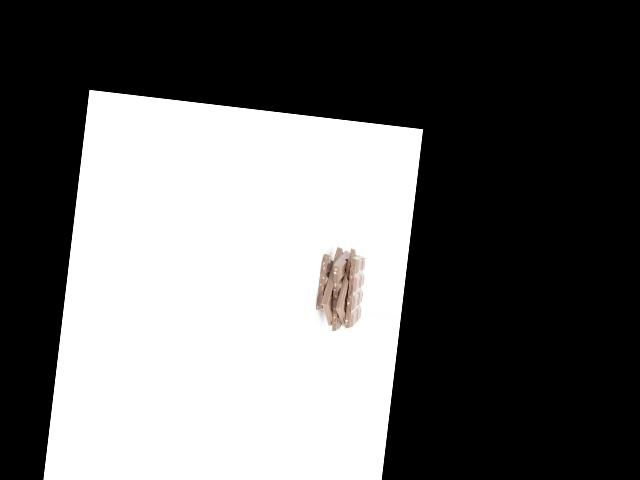chocolate: (309, 246, 349, 326)
